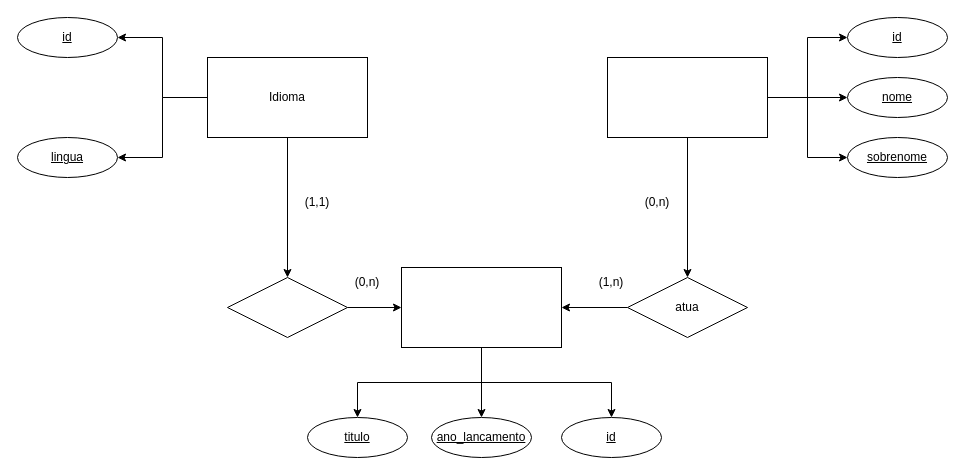
Image size: 965x475. Some labels were removed from this diagram. Here are the shapes that lost their labels. From the top down, the box of each, then its label:
(606, 56, 768, 138): Ator
(226, 276, 348, 338): possui
(400, 266, 562, 348): Filme
